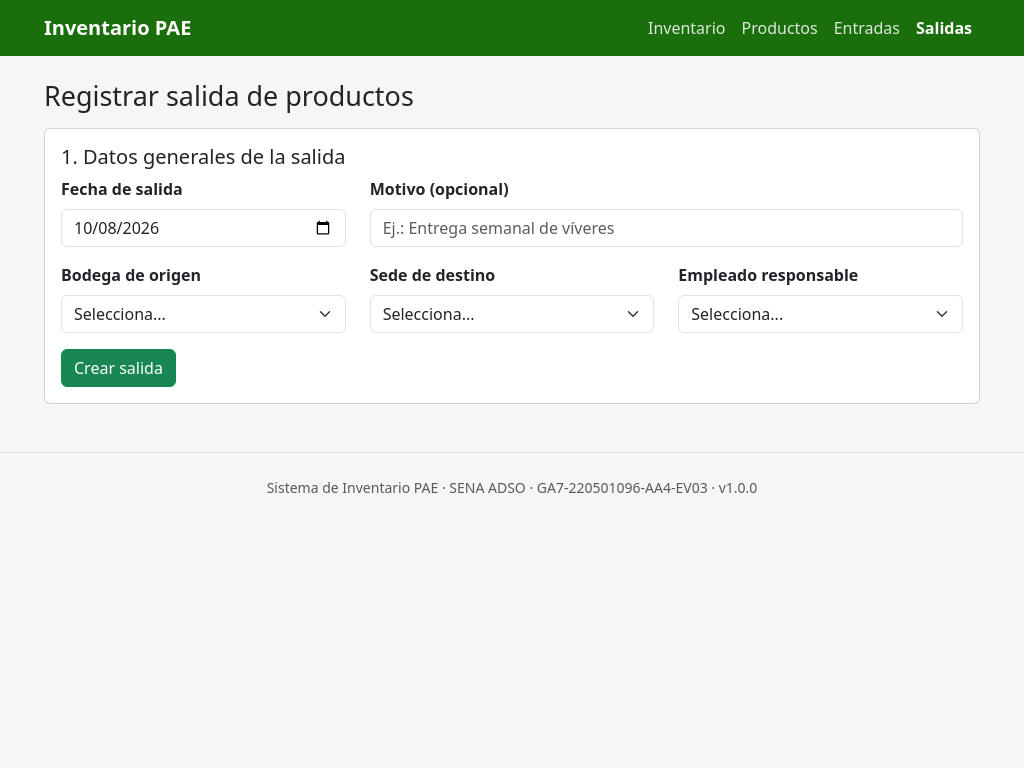
Test: Sistema de Inventario PAE (front-end) › HU-04: muestra «Stock insuficiente» y conserva los datos
Select "Bodega Central Montería" in the dropdown labelled "Bodega de origen": (203, 314) [61, 295, 346, 333]
Select "IE San José" in the dropdown labelled "Sede de destino": (512, 314) [370, 295, 654, 333]
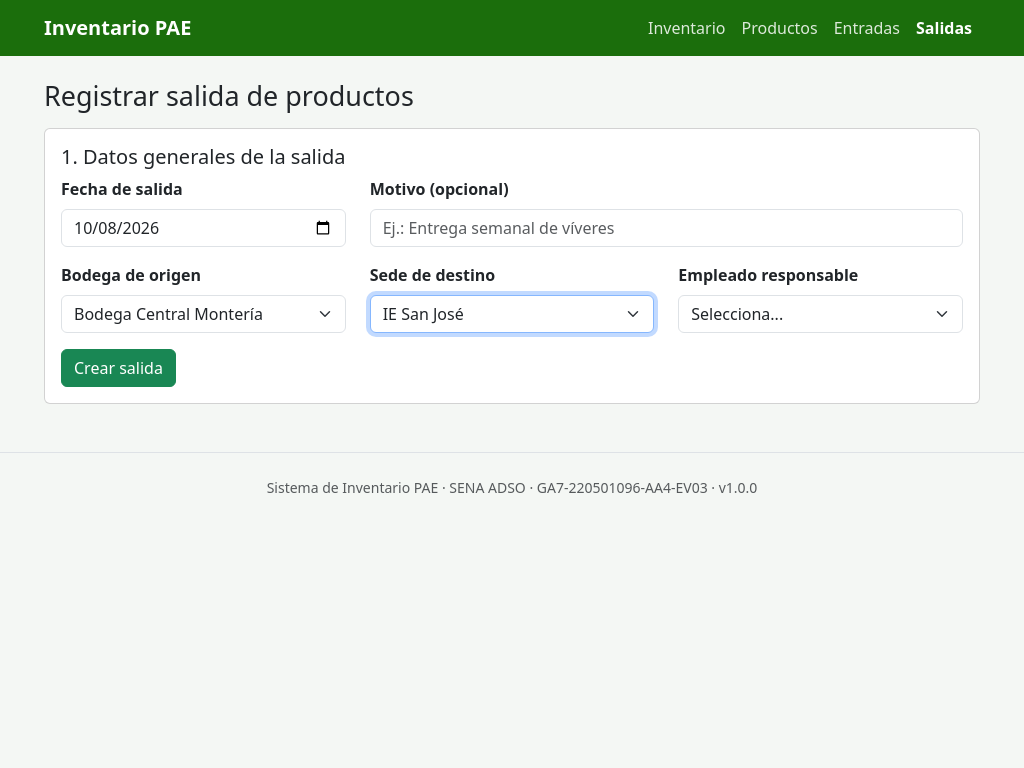
Select "Laura Martínez (Bodeguera)" in the dropdown labelled "Empleado responsable": (821, 314) [678, 295, 963, 333]
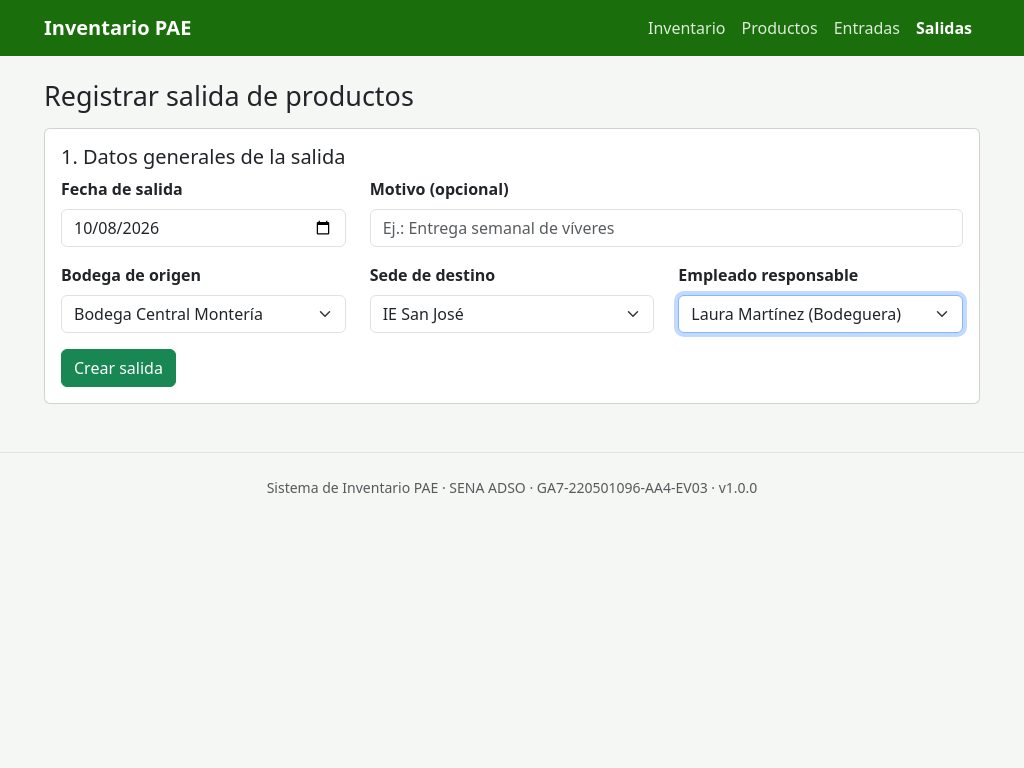
Click the button "Crear salida": (118, 368) [61, 349, 176, 387]
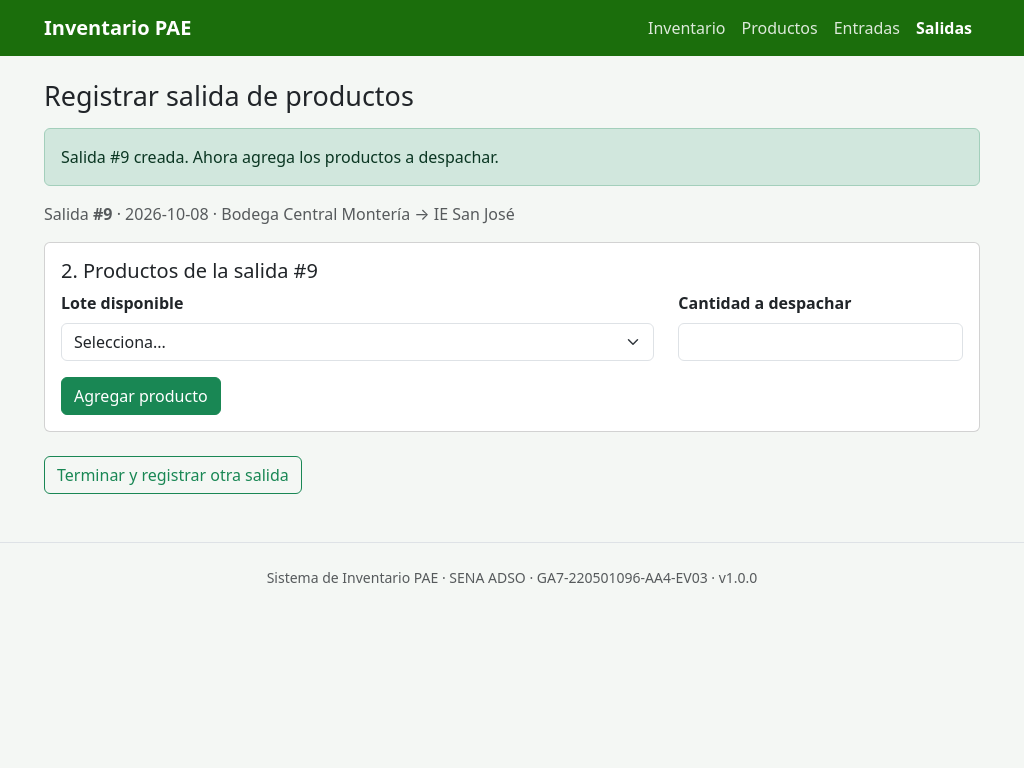
Result: the heading "2. Productos de la salida #9" is shown at [61, 257, 318, 284]
Select "Arroz · Lote #1 · vence 2027-01-01 · disponible 50" in the dropdown labelled "Lote disponible": (358, 342) [61, 323, 654, 361]
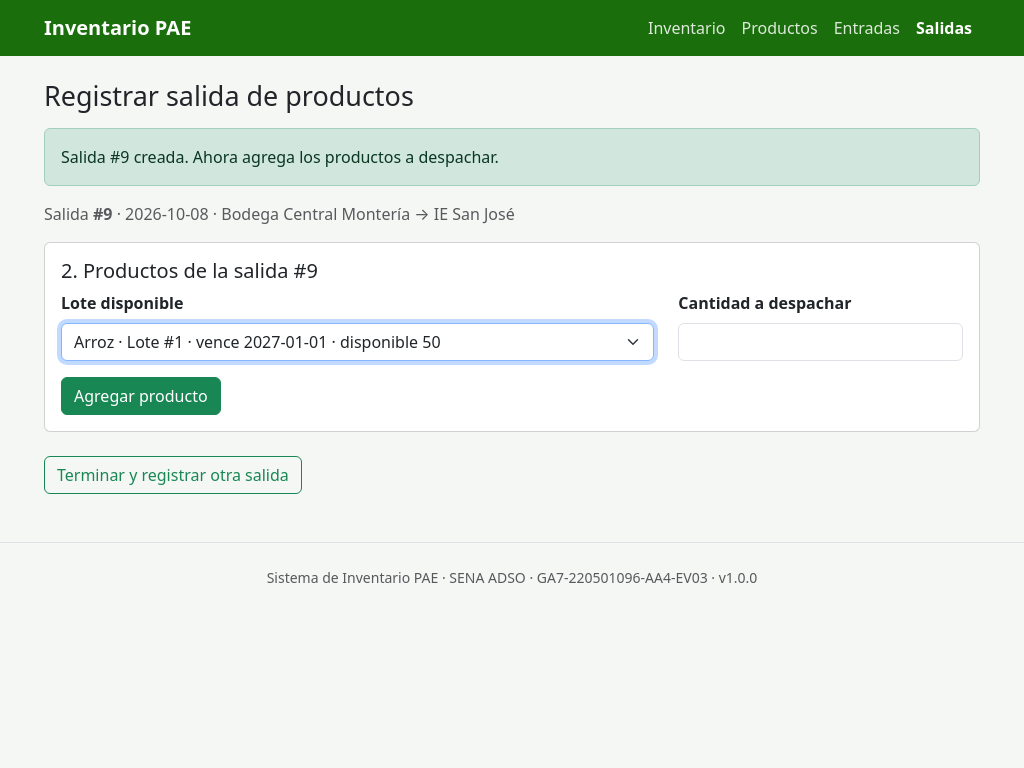
In the number field labelled "Cantidad a despachar": (821, 342) [678, 323, 963, 361], type "999"
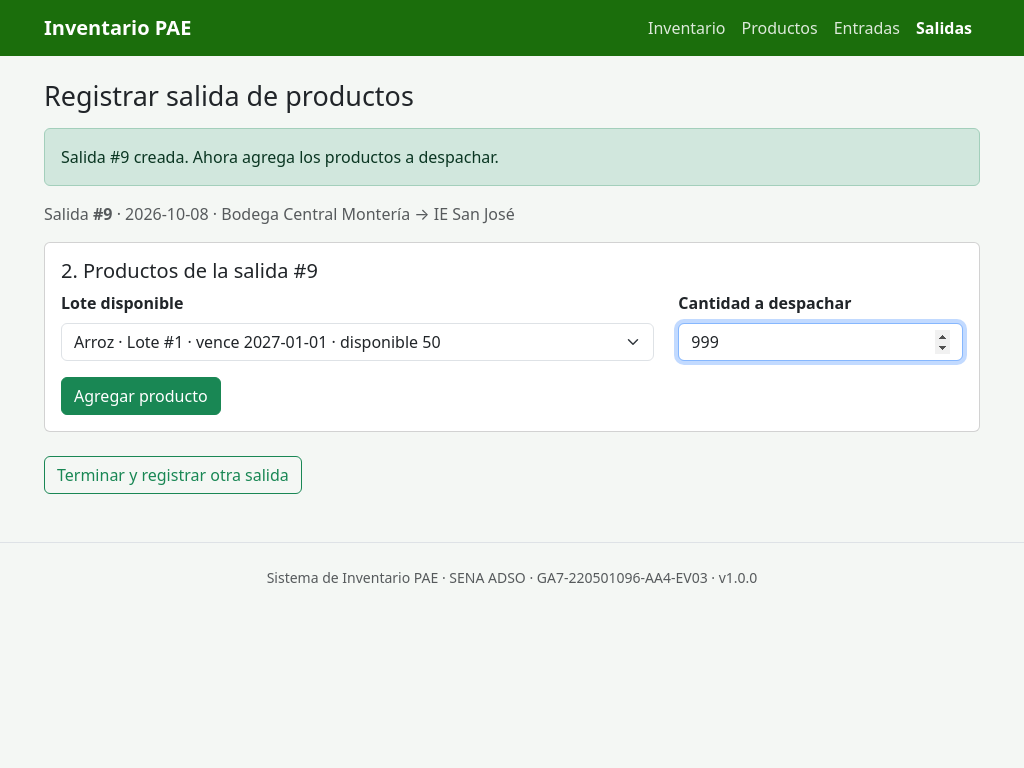
Click the button "Agregar producto": (141, 396) [61, 377, 221, 415]
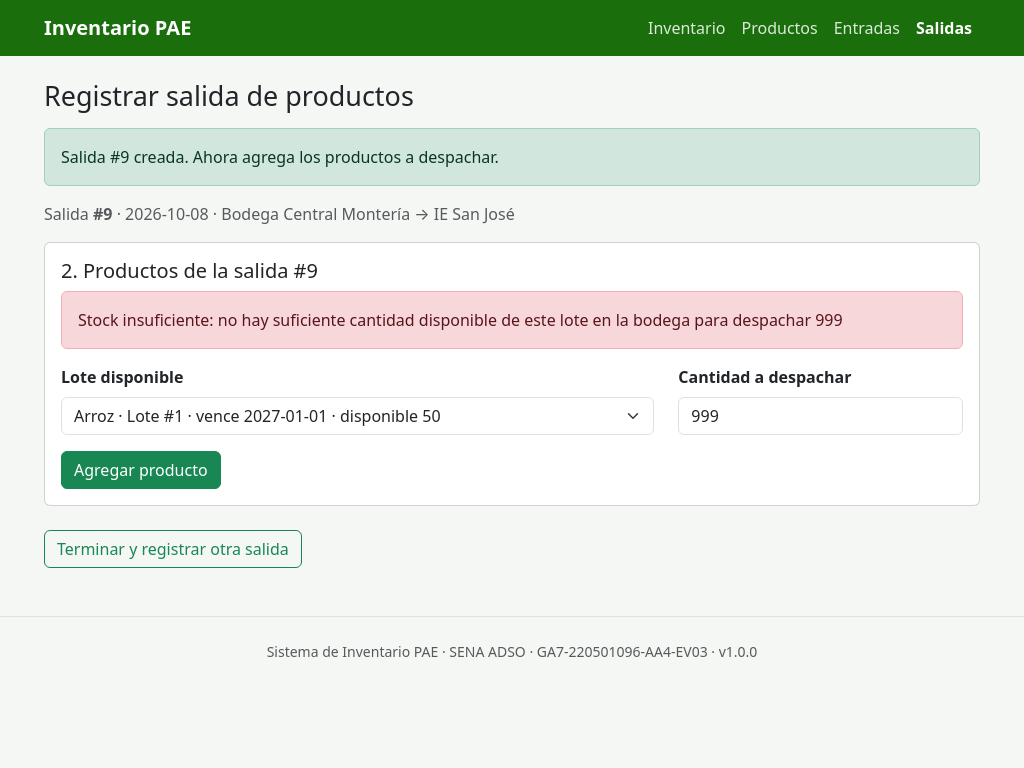
Result: the text "Stock insuficiente" is shown at [78, 309, 843, 331]
